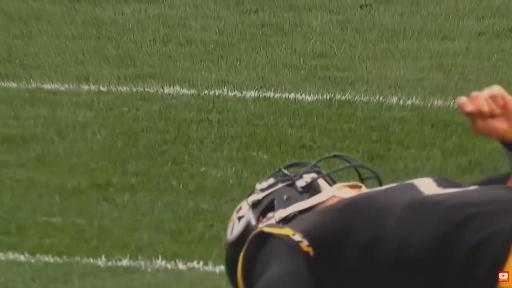Helmet: (226, 154, 382, 287)
Jersey: (238, 179, 511, 287)
Player: (226, 155, 511, 287)
